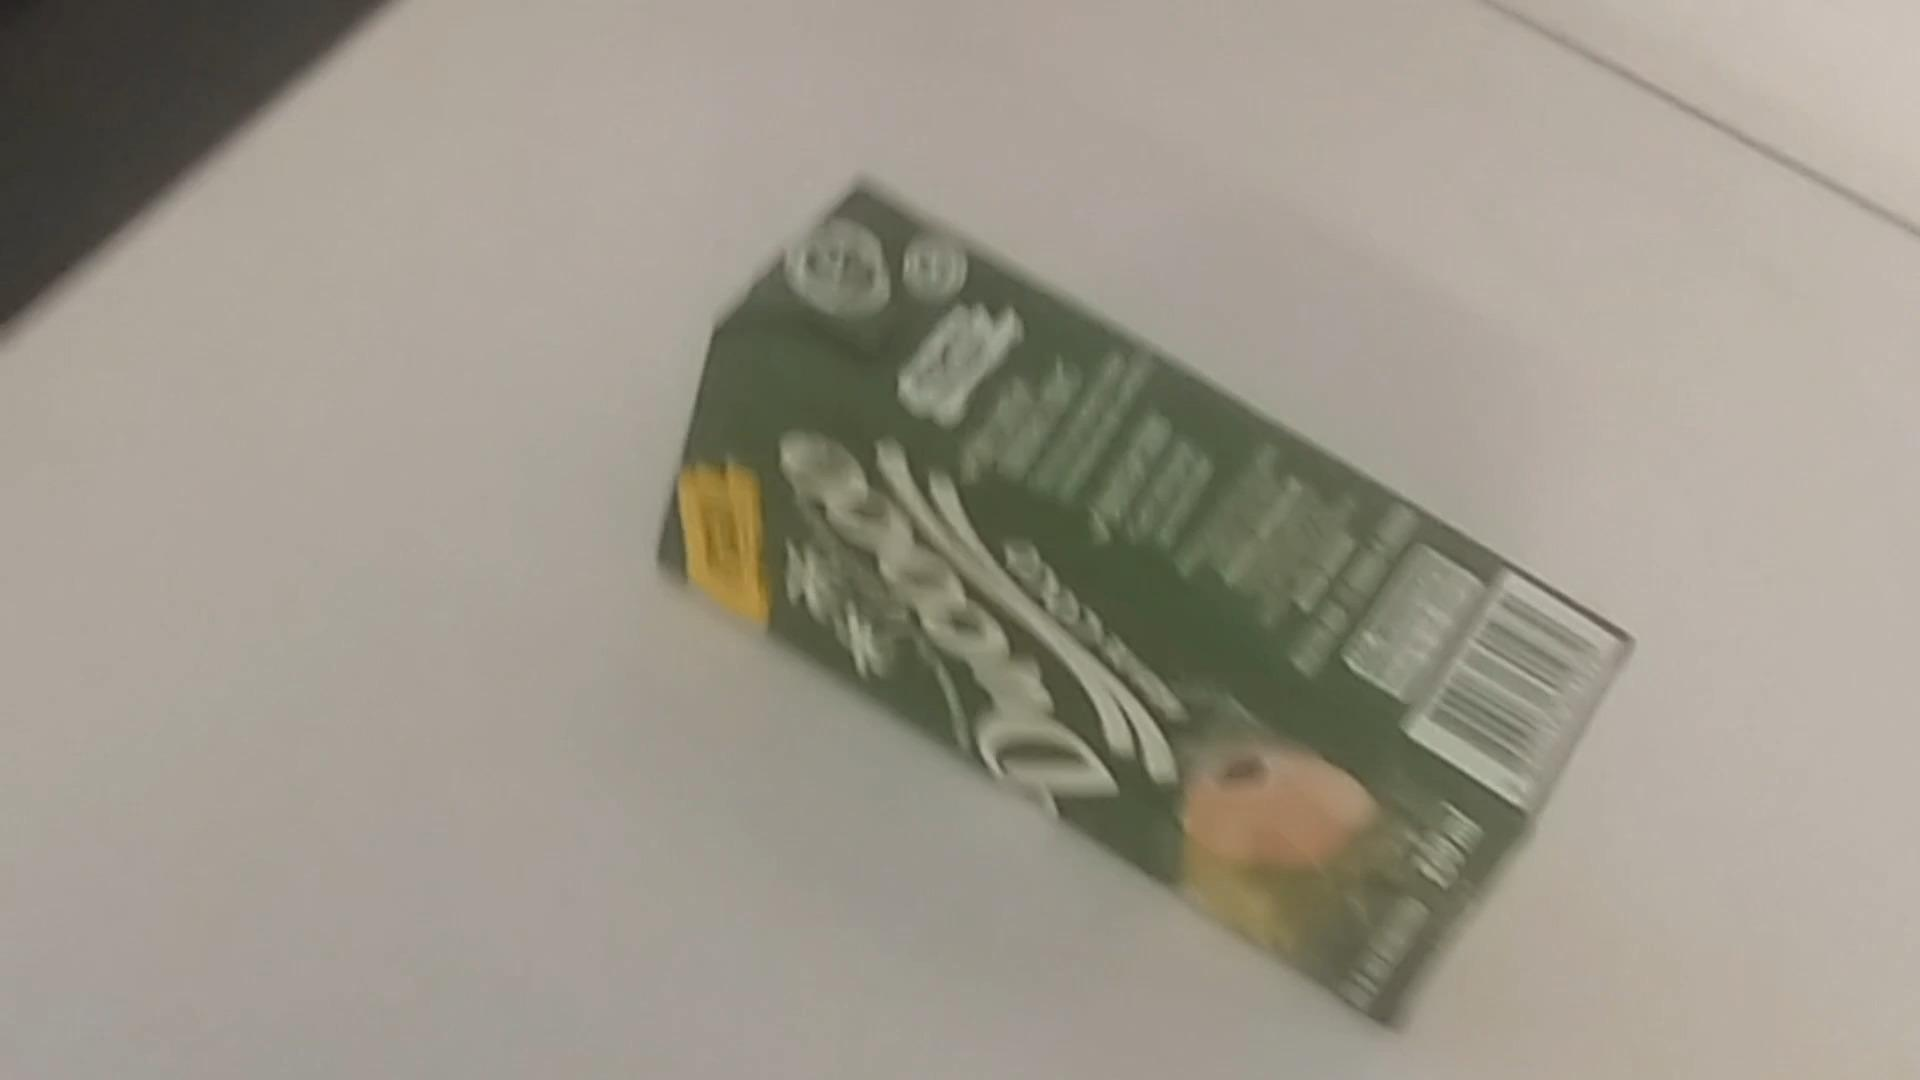coco: (665, 182, 1630, 1025)
